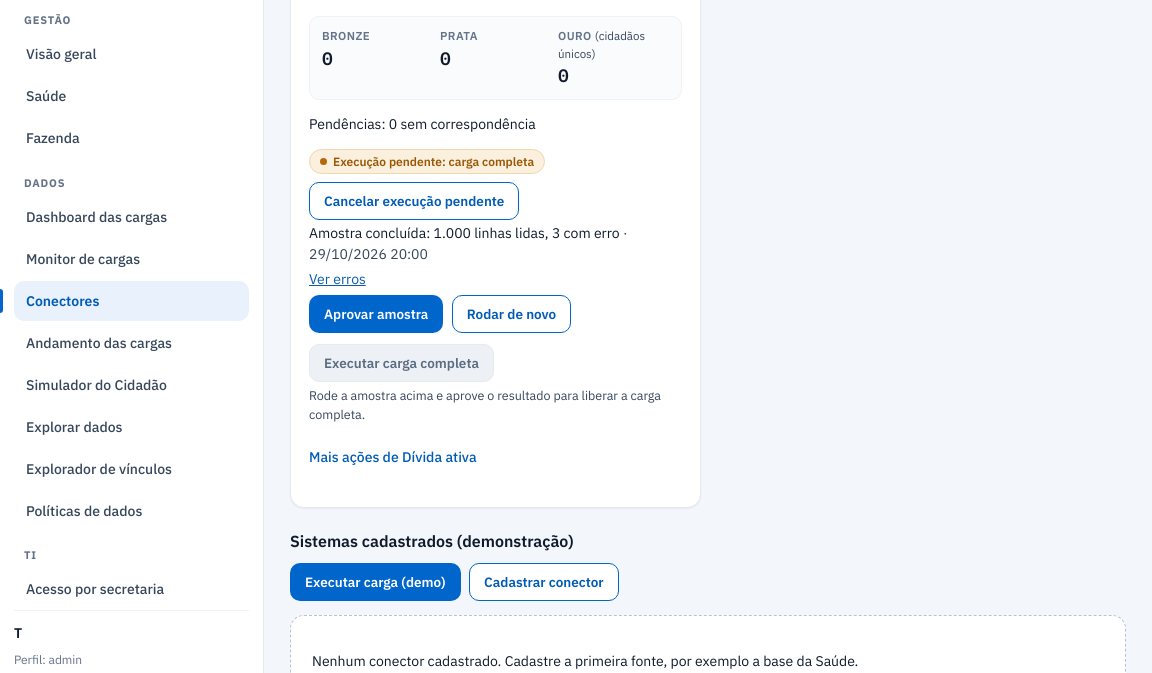
execução pendente (forcar=true) › UX57-2: diálogo "Aprovar e iniciar a carga completa de <fonte>?", Cancelar com foco e sem "Continuar"
(page scrolled)
Click the button "Aprovar amostra": click(376, 314) [309, 294, 443, 332]
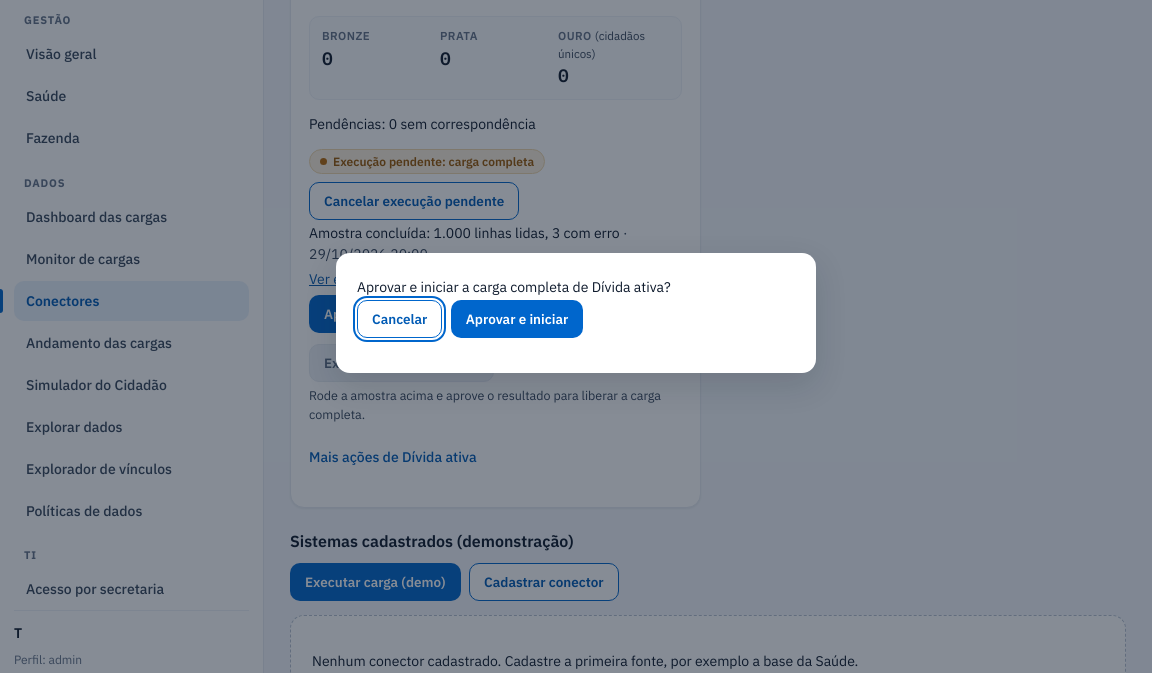
Now the buttons read "Cancelar", "Aprovar e iniciar", in this order, box [357, 300, 442, 338]; [451, 300, 583, 338]
